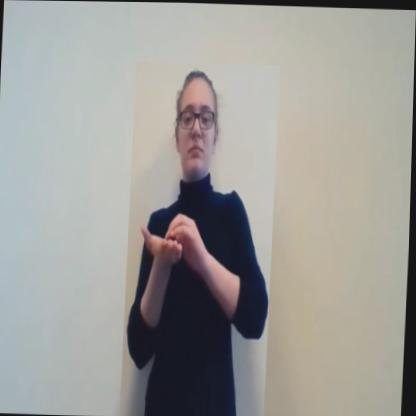ExcuseMe: (121, 61, 280, 416)
